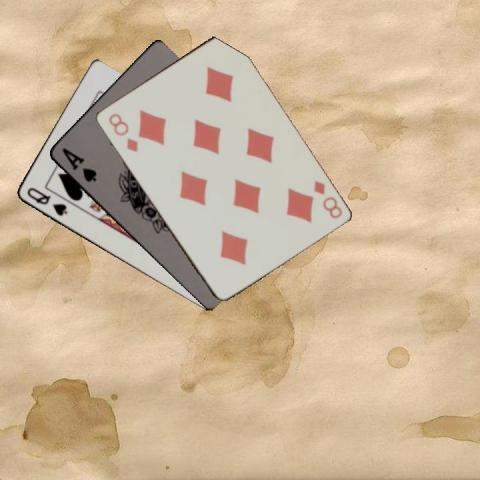8d: (105, 110, 139, 153), (310, 177, 343, 220)
As: (58, 145, 98, 184)
Qs: (23, 184, 69, 218)
